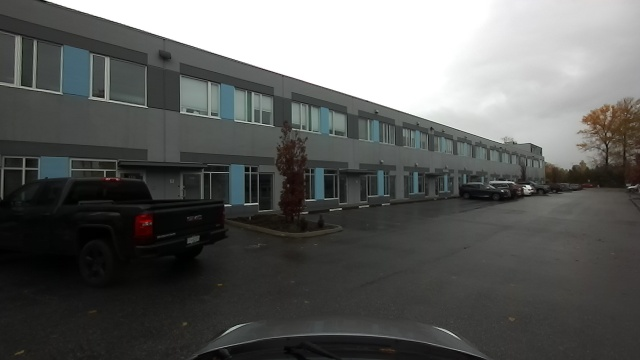car: (2, 178, 228, 285), (460, 183, 508, 202), (491, 183, 525, 199), (536, 182, 550, 195), (525, 184, 537, 197), (551, 183, 561, 194), (571, 183, 581, 191), (562, 183, 570, 191)
